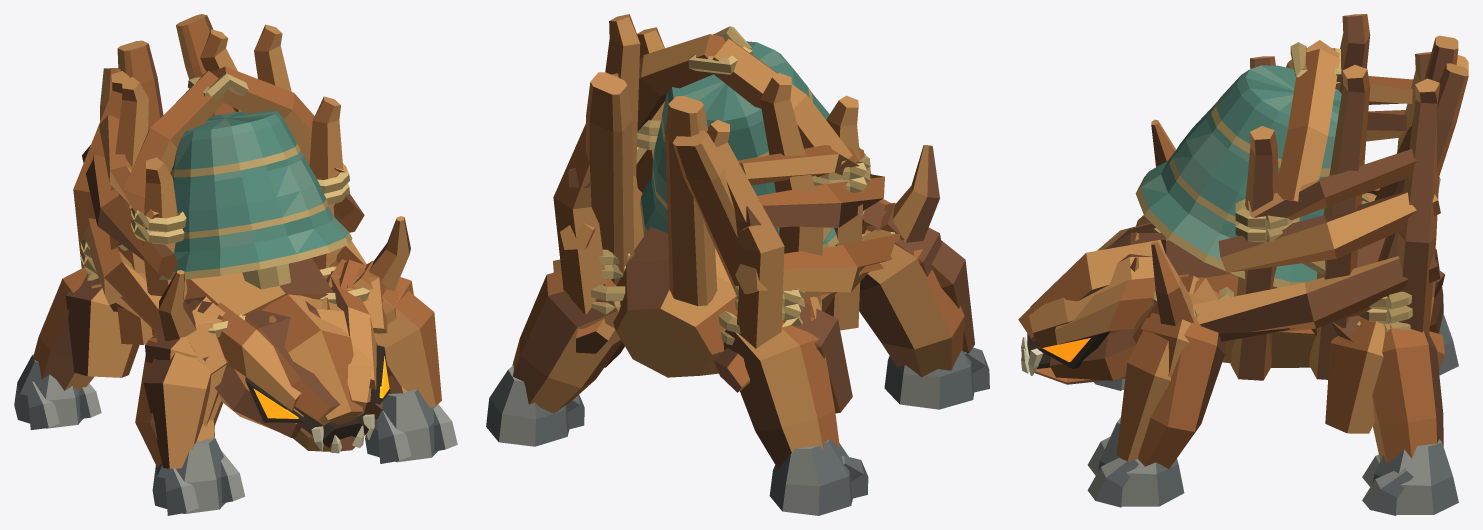
File: bellback-complete-face-character.glb
3 views of the same model, side by side, from view 1: azimuth 30°, elevation 25°; view 2: azimuth 150°, elevation 25°; view 3: azimuth 270°, elevation 25° (orthographic). The views are drawn at different scales.
Visible parts, largest first — view 1: Hollow cast bell, Left fore outer timber shield, Pointed central face keel, Right fore outer timber shield, Solid timber cranium, Left hind shoulder cap, Barrel timber hull, Arch left, Shaped orbital brow timber, Broken ship rib -1 1, Middle broken side strake -1, Lower broken side strake -1 (+38 smaller); view 2: Barrel timber hull, Left hind timber leg, Left fore timber leg, Right hind timber leg, Stern diagonal wreck plank 1, Hollow cast bell, Tall stern plank, Broken ship rib -1 2, Lower broken side strake -1, Broken ship rib 1 2, Stern diagonal wreck plank -1, Left hind stone foot (+20 smaller); view 3: Hollow cast bell, Lower broken side strake 1, Right hind timber leg, Middle broken side strake 1, Broken ship rib 1 2, Right fore timber leg, Arch right, Broken ship rib 1 1, Right hind shoulder cap, Broken ship rib 1 0, Right fore outer timber shield, Sweeping upper wreck rib 1 (+29 smaller).
Boxes of the visible parts, left/top/right/bottom form: Hollow cast bell: left=159, top=110, right=352, bottom=279; Left fore outer timber shield: left=143, top=309, right=221, bottom=468; Pointed central face keel: left=261, top=294, right=362, bottom=424; Right fore outer timber shield: left=352, top=261, right=441, bottom=407; Solid timber cranium: left=245, top=298, right=372, bottom=425; Left hind shoulder cap: left=65, top=273, right=139, bottom=377; Barrel timber hull: left=151, top=258, right=333, bottom=327; Arch left: left=123, top=71, right=224, bottom=197; Shaped orbital brow timber: left=217, top=302, right=301, bottom=410; Broken ship rib -1 1: left=109, top=77, right=152, bottom=344; Middle broken side strake -1: left=82, top=145, right=177, bottom=278; Lower broken side strake -1: left=83, top=218, right=162, bottom=330; Barrel timber hull: left=613, top=227, right=836, bottom=377; Left hind timber leg: left=723, top=321, right=839, bottom=469; Left fore timber leg: left=859, top=230, right=964, bottom=377; Right hind timber leg: left=512, top=270, right=622, bottom=413; Stern diagonal wreck plank 1: left=585, top=72, right=634, bottom=285; Hollow cast bell: left=640, top=41, right=871, bottom=247; Tall stern plank: left=665, top=96, right=717, bottom=306; Broken ship rib -1 2: left=707, top=120, right=784, bottom=348; Lower broken side strake -1: left=735, top=229, right=901, bottom=293; Broken ship rib 1 2: left=553, top=73, right=619, bottom=314; Stern diagonal wreck plank -1: left=672, top=130, right=741, bottom=296; Left hind stone foot: left=769, top=439, right=852, bottom=515; Hollow cast bell: left=1135, top=65, right=1341, bottom=287; Lower broken side strake 1: left=1193, top=255, right=1440, bottom=333; Right hind timber leg: left=1372, top=323, right=1443, bottom=463; Middle broken side strake 1: left=1218, top=191, right=1440, bottom=272; Broken ship rib 1 2: left=1397, top=78, right=1440, bottom=335; Right fore timber leg: left=1137, top=291, right=1226, bottom=468; Arch right: left=1275, top=49, right=1339, bottom=201; Broken ship rib 1 1: left=1309, top=65, right=1370, bottom=379; Right hind shoulder cap: left=1325, top=317, right=1385, bottom=433; Broken ship rib 1 0: left=1230, top=126, right=1278, bottom=380; Right fore outer timber shield: left=1116, top=292, right=1203, bottom=461; Sweeping upper wreck rib 1: left=1248, top=149, right=1417, bottom=220.
Size of the model in its own units: 3.43 by 3.72 by 3.79.
